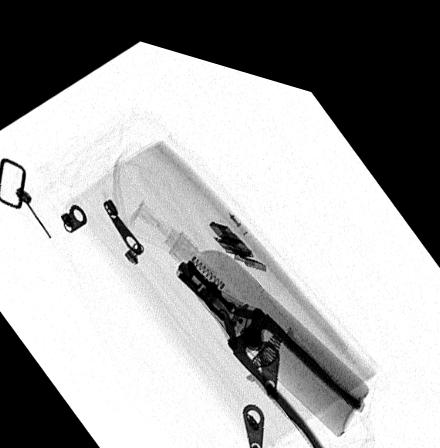Pliers: (174, 247, 366, 434)
